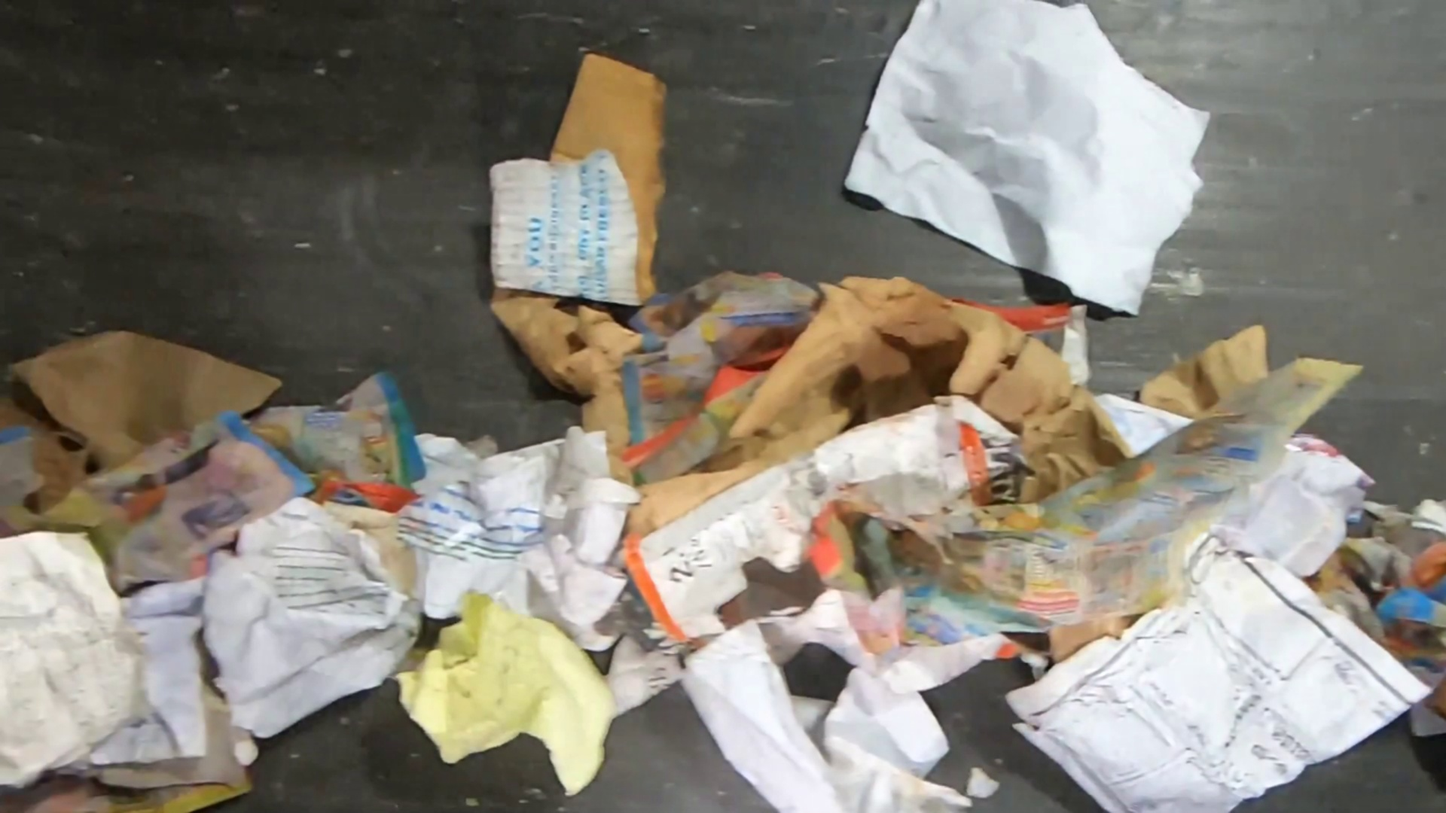cardboard: (620, 393, 1021, 649), (0, 326, 286, 512), (486, 51, 673, 309)
